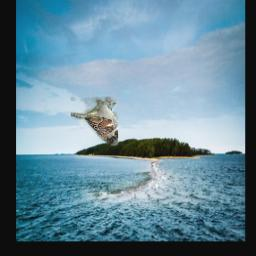Sparrow: (72, 97, 119, 146)
